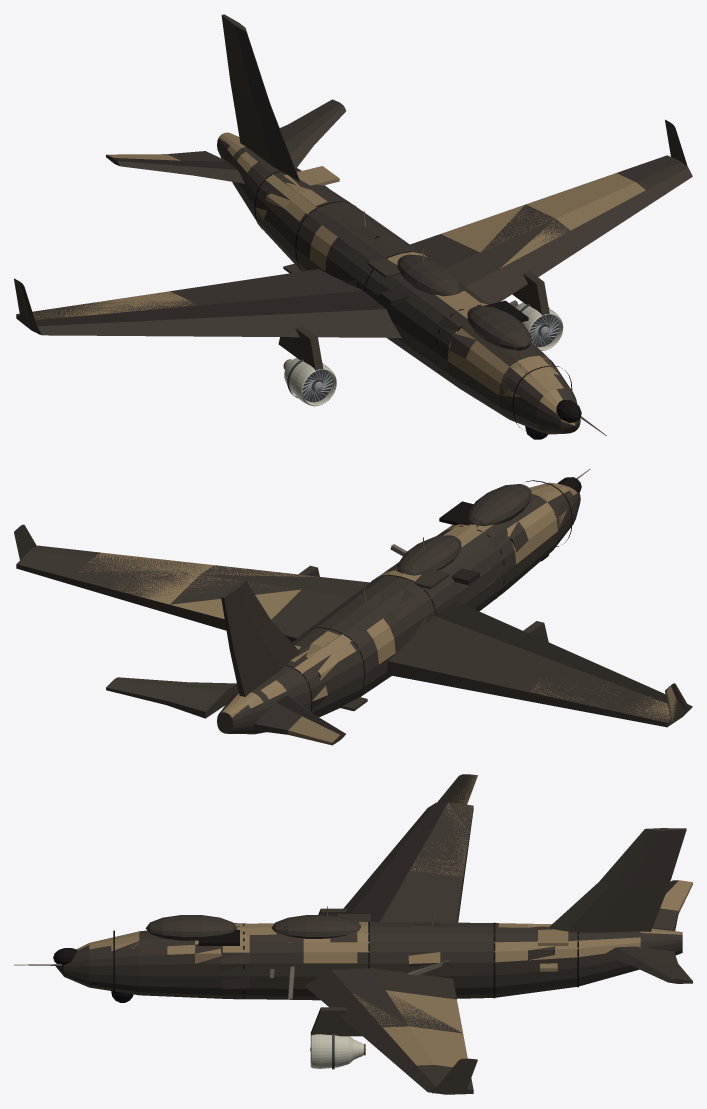
The model's file is jet.glb.
3 renders of one model, top to bottom at view 1: azimuth 30°, elevation 25°; view 2: azimuth 150°, elevation 25°; view 3: azimuth 270°, elevation 25°, orthographic. The views are drawn at different scales.
Visible parts, largest first — view 1: Jet_Body, P_wingL, P_front, P_tail, P_rear, P_wingR, P_nose, Jet_EngineR, P_engineR, P_panel5; view 2: Jet_Body, P_wingR, P_tail, P_front, P_rear, P_wingL, P_nose, P_panel3; view 3: Jet_Body, P_front, P_wingL, P_nose, Jet_EngineR, P_wingR, P_rear, P_tail, P_engineR, P_panel5, P_panel3.
Part boxes in pixels (x1,y1,x2,y2): Jet_Body: [14, 14, 692, 439]; P_wingL: [16, 289, 334, 405]; P_front: [281, 234, 507, 377]; P_tail: [217, 15, 345, 221]; P_rear: [266, 182, 379, 270]; P_wingR: [441, 162, 691, 288]; P_nose: [450, 333, 579, 439]; Jet_EngineR: [512, 274, 563, 350]; P_engineR: [515, 271, 560, 348]; P_panel5: [283, 166, 339, 186]; Jet_Body: [14, 468, 692, 745]; P_wingR: [17, 546, 318, 630]; P_tail: [221, 581, 331, 744]; P_front: [271, 527, 507, 684]; P_rear: [305, 592, 401, 697]; P_wingL: [444, 621, 692, 721]; P_nose: [509, 477, 580, 574]; P_panel3: [439, 501, 478, 527]; Jet_Body: [14, 774, 692, 1094]; P_front: [220, 912, 456, 1002]; P_wingL: [319, 802, 472, 922]; P_nose: [53, 930, 221, 1002]; Jet_EngineR: [310, 1007, 365, 1069]; P_wingR: [346, 990, 462, 1037]; P_rear: [408, 912, 555, 998]; P_tail: [568, 830, 690, 985]; P_engineR: [310, 1010, 365, 1068]; P_panel5: [538, 925, 568, 945]; P_panel3: [198, 926, 239, 945].
Bounding box in the file's own units: 32.2 × 9.99 × 32.5.
